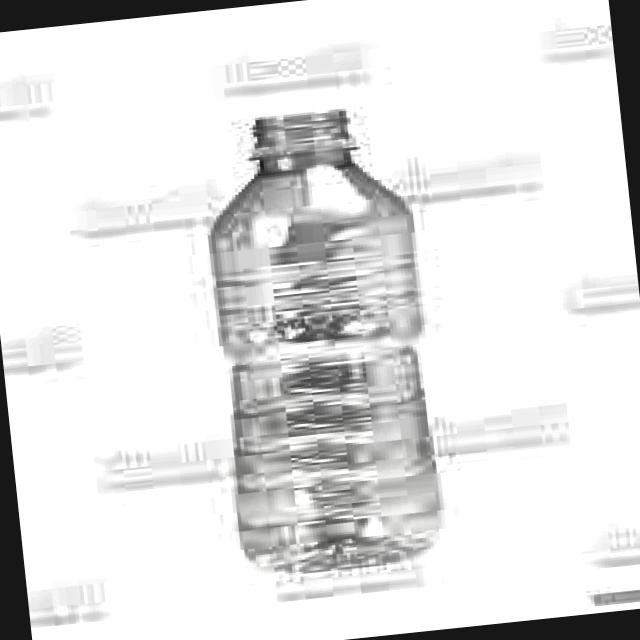plastic bottle: (212, 111, 440, 596)
